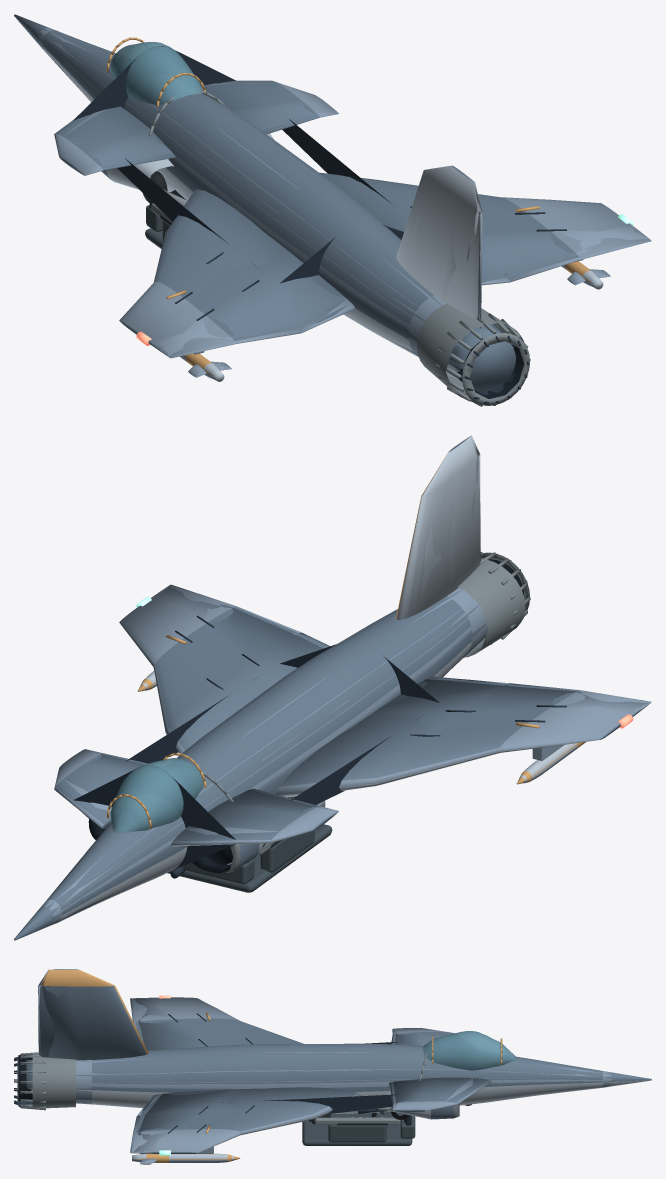
File: gripen.glb
3 renders of one model, top to bottom at view 1: azimuth 30°, elevation 25°; view 2: azimuth 150°, elevation 25°; view 3: azimuth 270°, elevation 25°, orthographic. The views are drawn at different scales.
Parts seen in each view (by area): view 1: Airframe shell mesh, Airframe shell.002 mesh, Airframe shell.001 mesh, Central fuselage, Aft nacelles, Starboard wing, Port wing, Canopy glass, Canopy glass.001, Forward fuselage, Canard, Cockpit shell mesh (+4 smaller); view 2: Airframe shell mesh, Airframe shell.002 mesh, Airframe shell.001 mesh, Central fuselage, Forward fuselage, Canopy glass, Port wing, Cockpit shell mesh, Aft nacelles, Starboard wing, Canopy glass.001, Canard (+2 smaller); view 3: Airframe shell mesh, Airframe shell.002 mesh, Airframe shell.001 mesh, Cockpit shell mesh, Central fuselage, Canopy glass, Aft nacelles, Starboard wing, Port wing, Canopy glass.001, Forward fuselage, Store_1 mesh (+1 smaller).
Boxes of the visible parts, <box> form: Airframe shell mesh: <box>38,28,633,406</box>; Airframe shell.002 mesh: <box>14,14,648,405</box>; Airframe shell.001 mesh: <box>14,15,651,399</box>; Central fuselage: <box>73,46,404,283</box>; Aft nacelles: <box>281,173,523,402</box>; Starboard wing: <box>237,80,650,281</box>; Port wing: <box>54,120,317,357</box>; Canopy glass: <box>110,42,202,104</box>; Canopy glass.001: <box>111,42,202,104</box>; Forward fuselage: <box>39,32,235,119</box>; Canard: <box>56,106,175,175</box>; Cockpit shell mesh: <box>145,90,228,248</box>; Airframe shell mesh: <box>14,445,638,940</box>; Airframe shell.002 mesh: <box>14,437,648,940</box>; Airframe shell.001 mesh: <box>14,437,649,939</box>; Central fuselage: <box>74,641,439,872</box>; Forward fuselage: <box>53,765,235,915</box>; Canopy glass: <box>110,758,203,831</box>; Port wing: <box>236,681,650,844</box>; Cockpit shell mesh: <box>167,771,332,892</box>; Aft nacelles: <box>281,441,529,702</box>; Starboard wing: <box>54,585,317,803</box>; Canopy glass.001: <box>111,758,201,830</box>; Canard: <box>171,788,338,846</box>; Airframe shell mesh: <box>14,969,651,1155</box>; Airframe shell.002 mesh: <box>17,969,651,1153</box>; Airframe shell.001 mesh: <box>18,969,611,1153</box>; Cockpit shell mesh: <box>302,1044,426,1145</box>; Central fuselage: <box>198,1031,467,1119</box>; Canopy glass: <box>423,1031,514,1070</box>; Aft nacelles: <box>18,969,197,1108</box>; Starboard wing: <box>131,1093,469,1153</box>; Port wing: <box>131,997,453,1045</box>; Canopy glass.001: <box>426,1031,506,1069</box>; Forward fuselage: <box>468,1031,610,1101</box>; Store_1 mesh: <box>132,1153,233,1164</box>.
Bounding box in the file's own units: 8.53 × 4.08 × 14.67.
